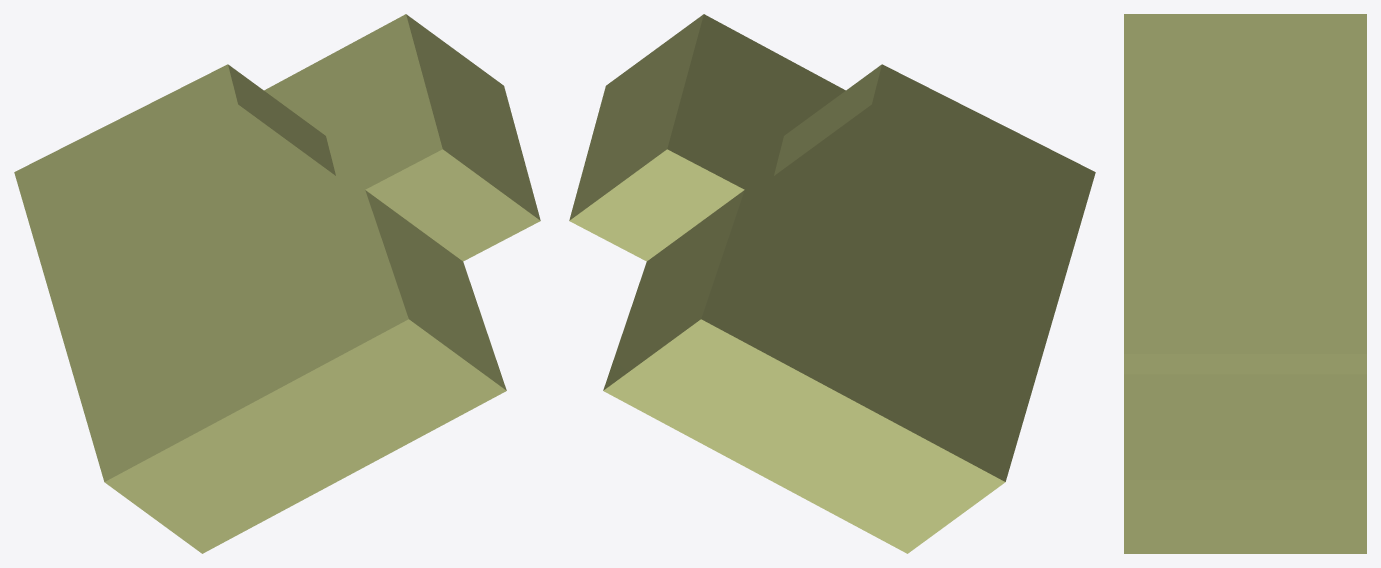
The picture shows the model from 3 angles, left to right: view 1: azimuth 30°, elevation 25°; view 2: azimuth 150°, elevation 25°; view 3: azimuth 270°, elevation 25°; orthographic projection. The views are drawn at different scales.
Visible parts, largest first — view 1: 0_1_0_1_3_3_0_3_2; view 2: 0_1_0_1_3_3_0_3_2; view 3: 0_1_0_1_3_3_0_3_2.
Part boxes in pixels (x1,y1,x2,y2): 0_1_0_1_3_3_0_3_2: [14, 14, 540, 553]; 0_1_0_1_3_3_0_3_2: [569, 14, 1095, 553]; 0_1_0_1_3_3_0_3_2: [1124, 14, 1366, 553].
Bounding box in the file's own units: 15.14 × 13.32 × 6.
